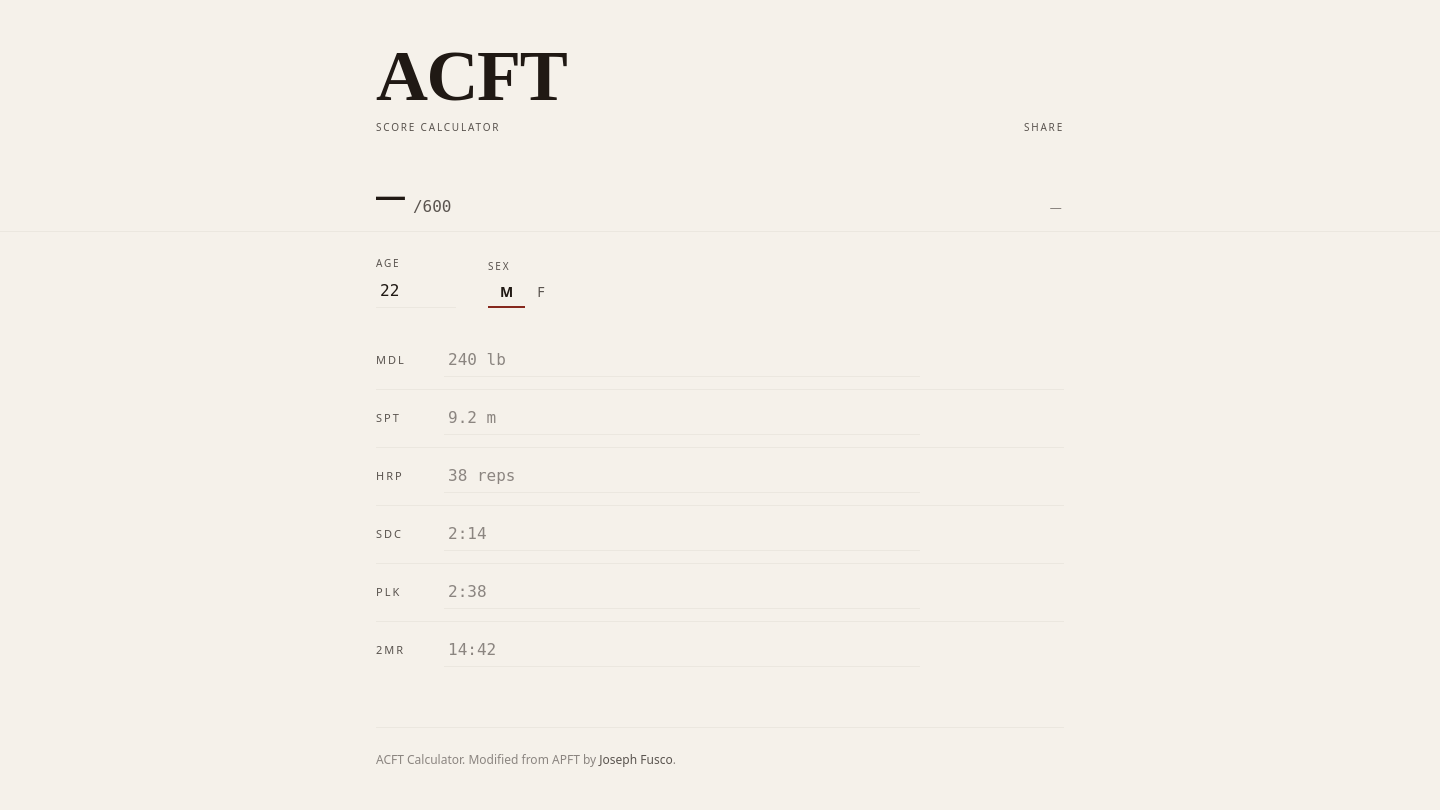
Test: App integration › shows PASS once all six events have passing inputs
In the field labelled "MDL": [682, 360] box x1=444 y1=344 x2=920 y2=377, type "240"
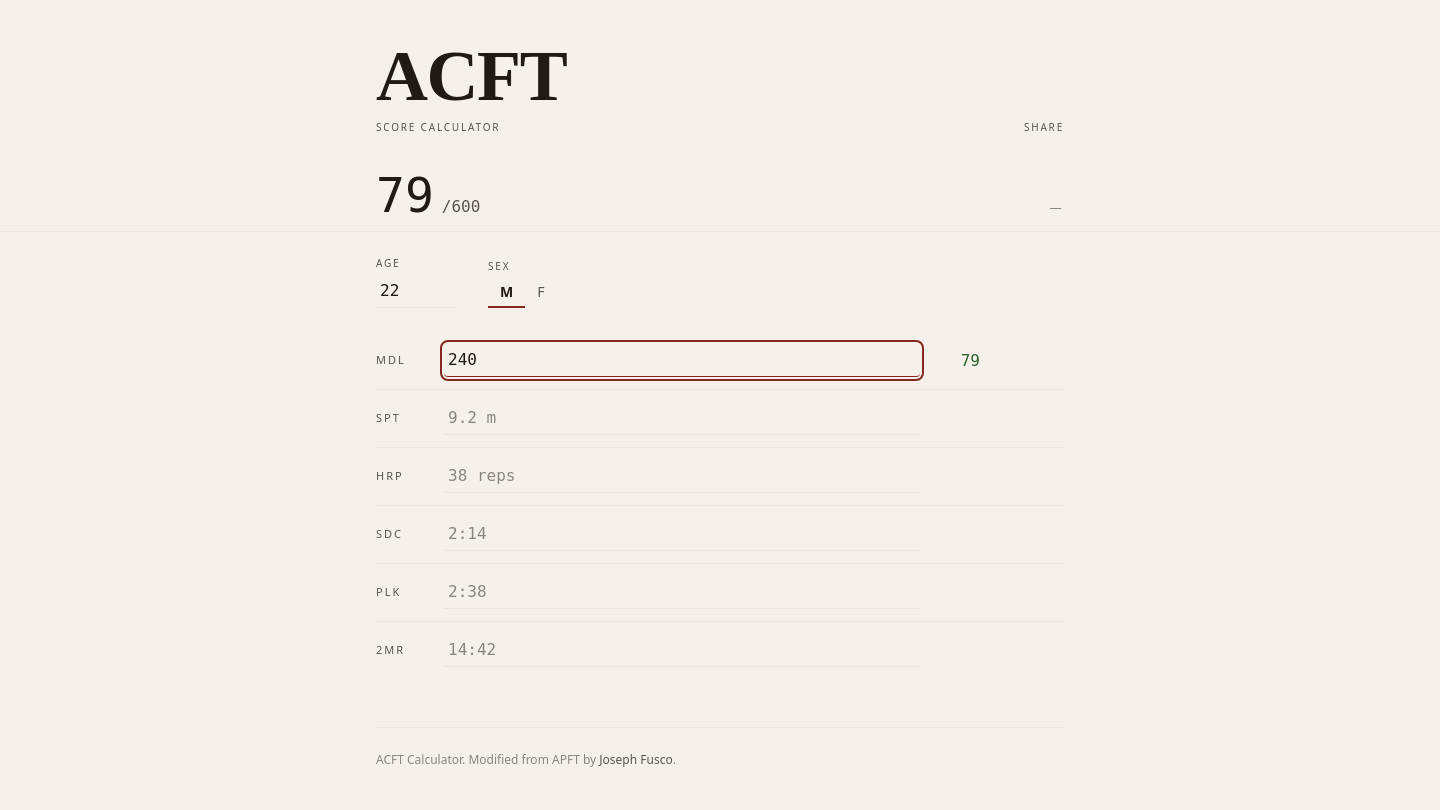
In the field labelled "SPT": [682, 418] box x1=444 y1=402 x2=920 y2=435, type "9.2"
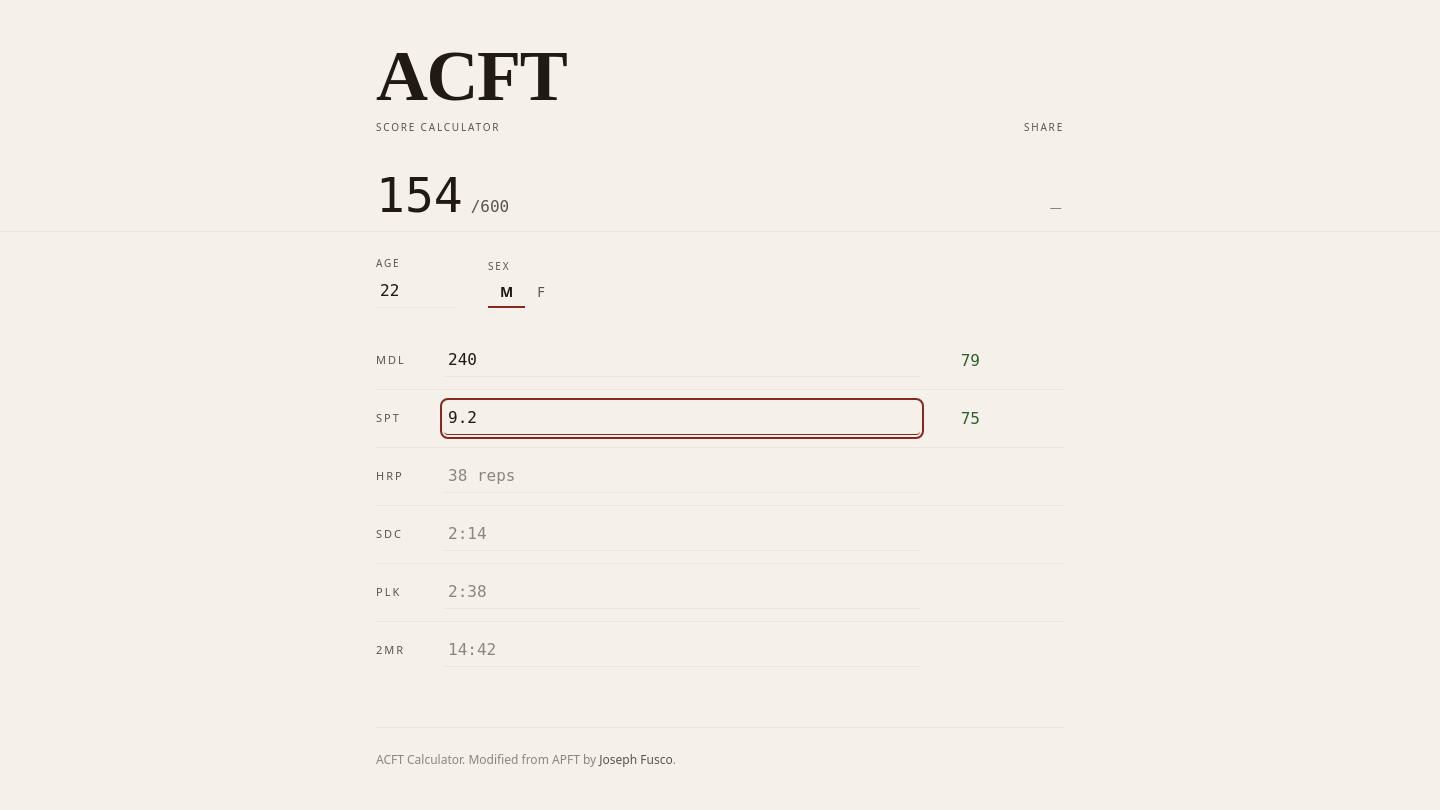
In the field labelled "HRP": [682, 476] box x1=444 y1=460 x2=920 y2=493, type "40"
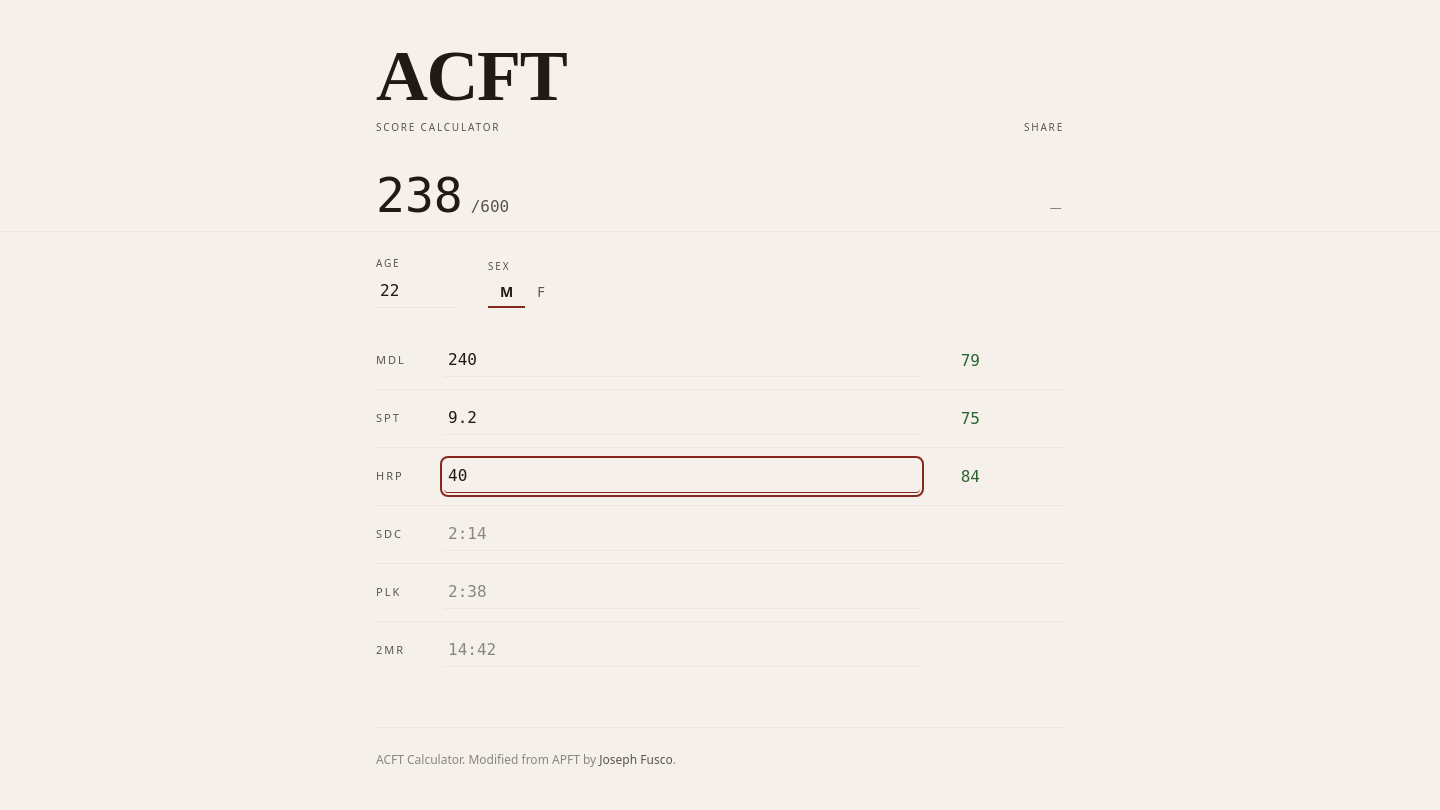
In the field labelled "SDC": [682, 534] box x1=444 y1=518 x2=920 y2=551, type "2:00"
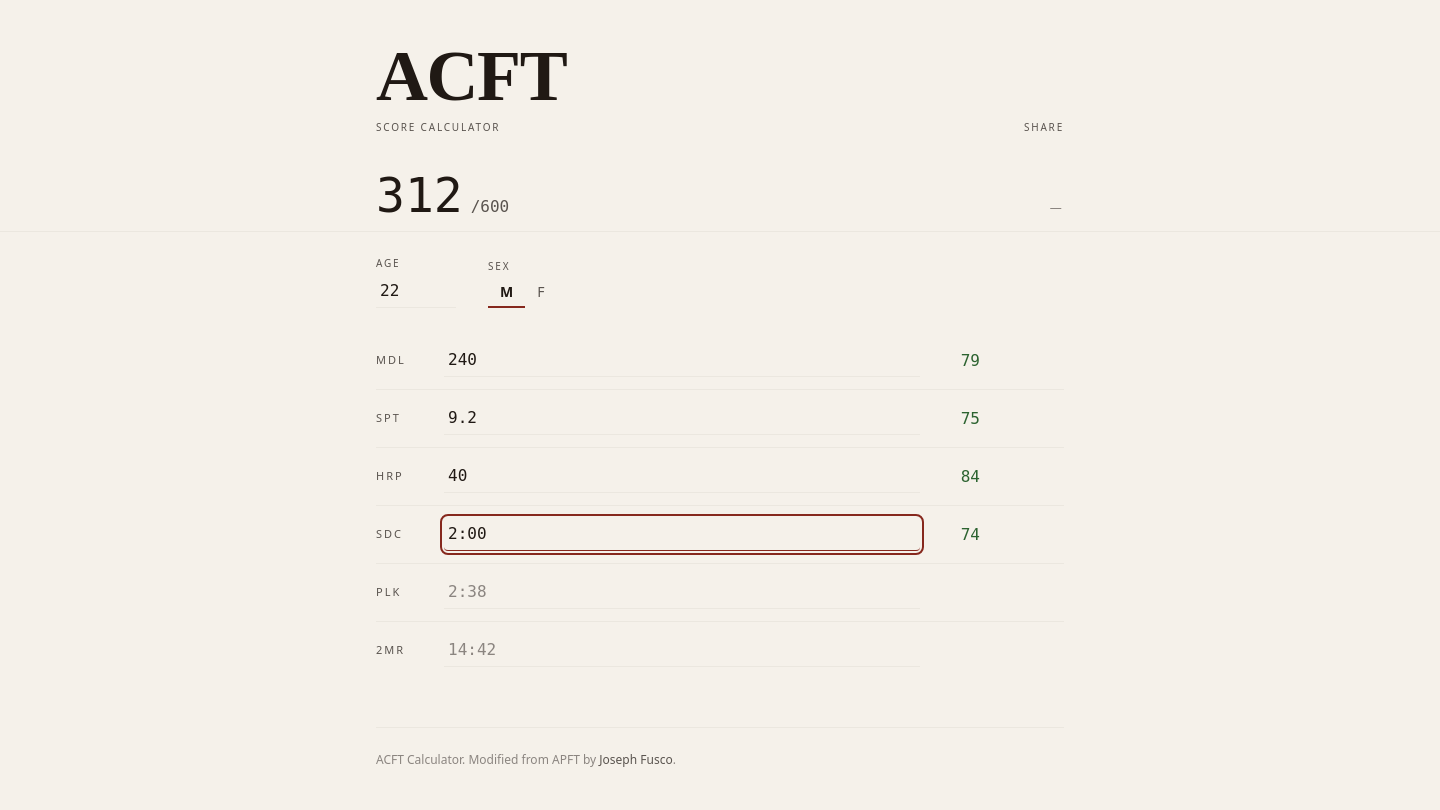
In the field labelled "PLK": [682, 592] box x1=444 y1=576 x2=920 y2=609, type "2:30"
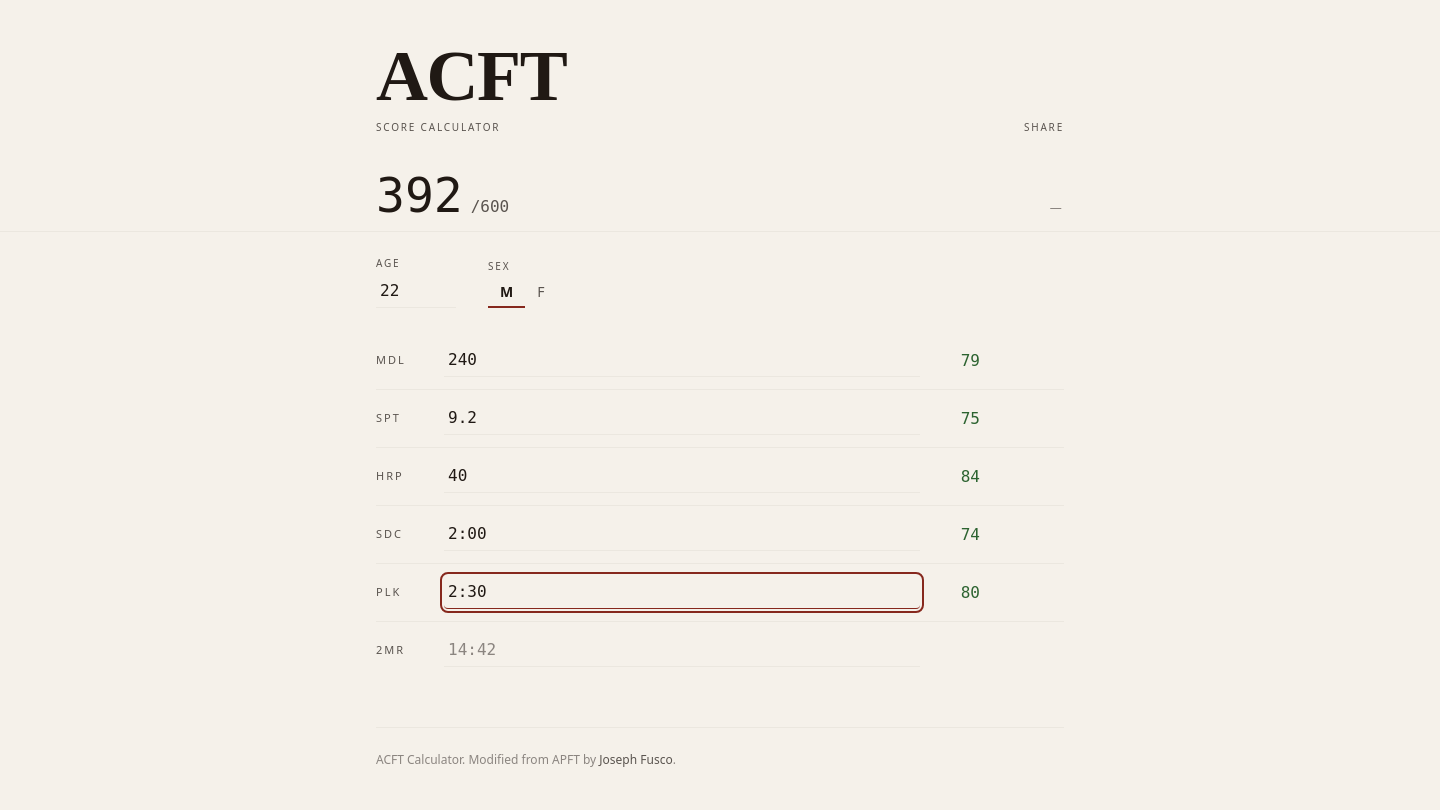
In the field labelled "2MR": [682, 650] box x1=444 y1=634 x2=920 y2=667, type "15:00"
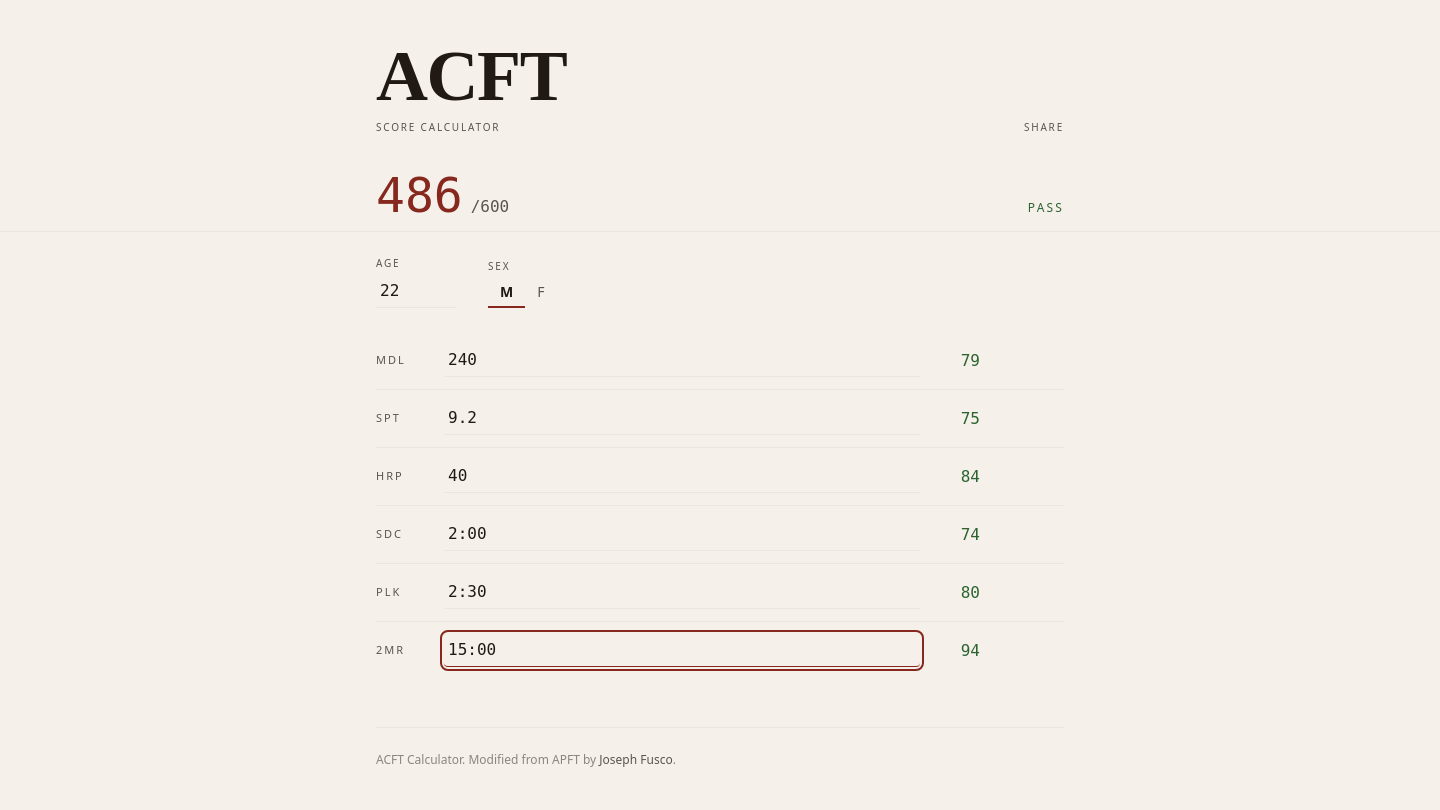
Result: the text with test id "acft-status" reads "PASS" at x1=1028 y1=199 x2=1064 y2=216
